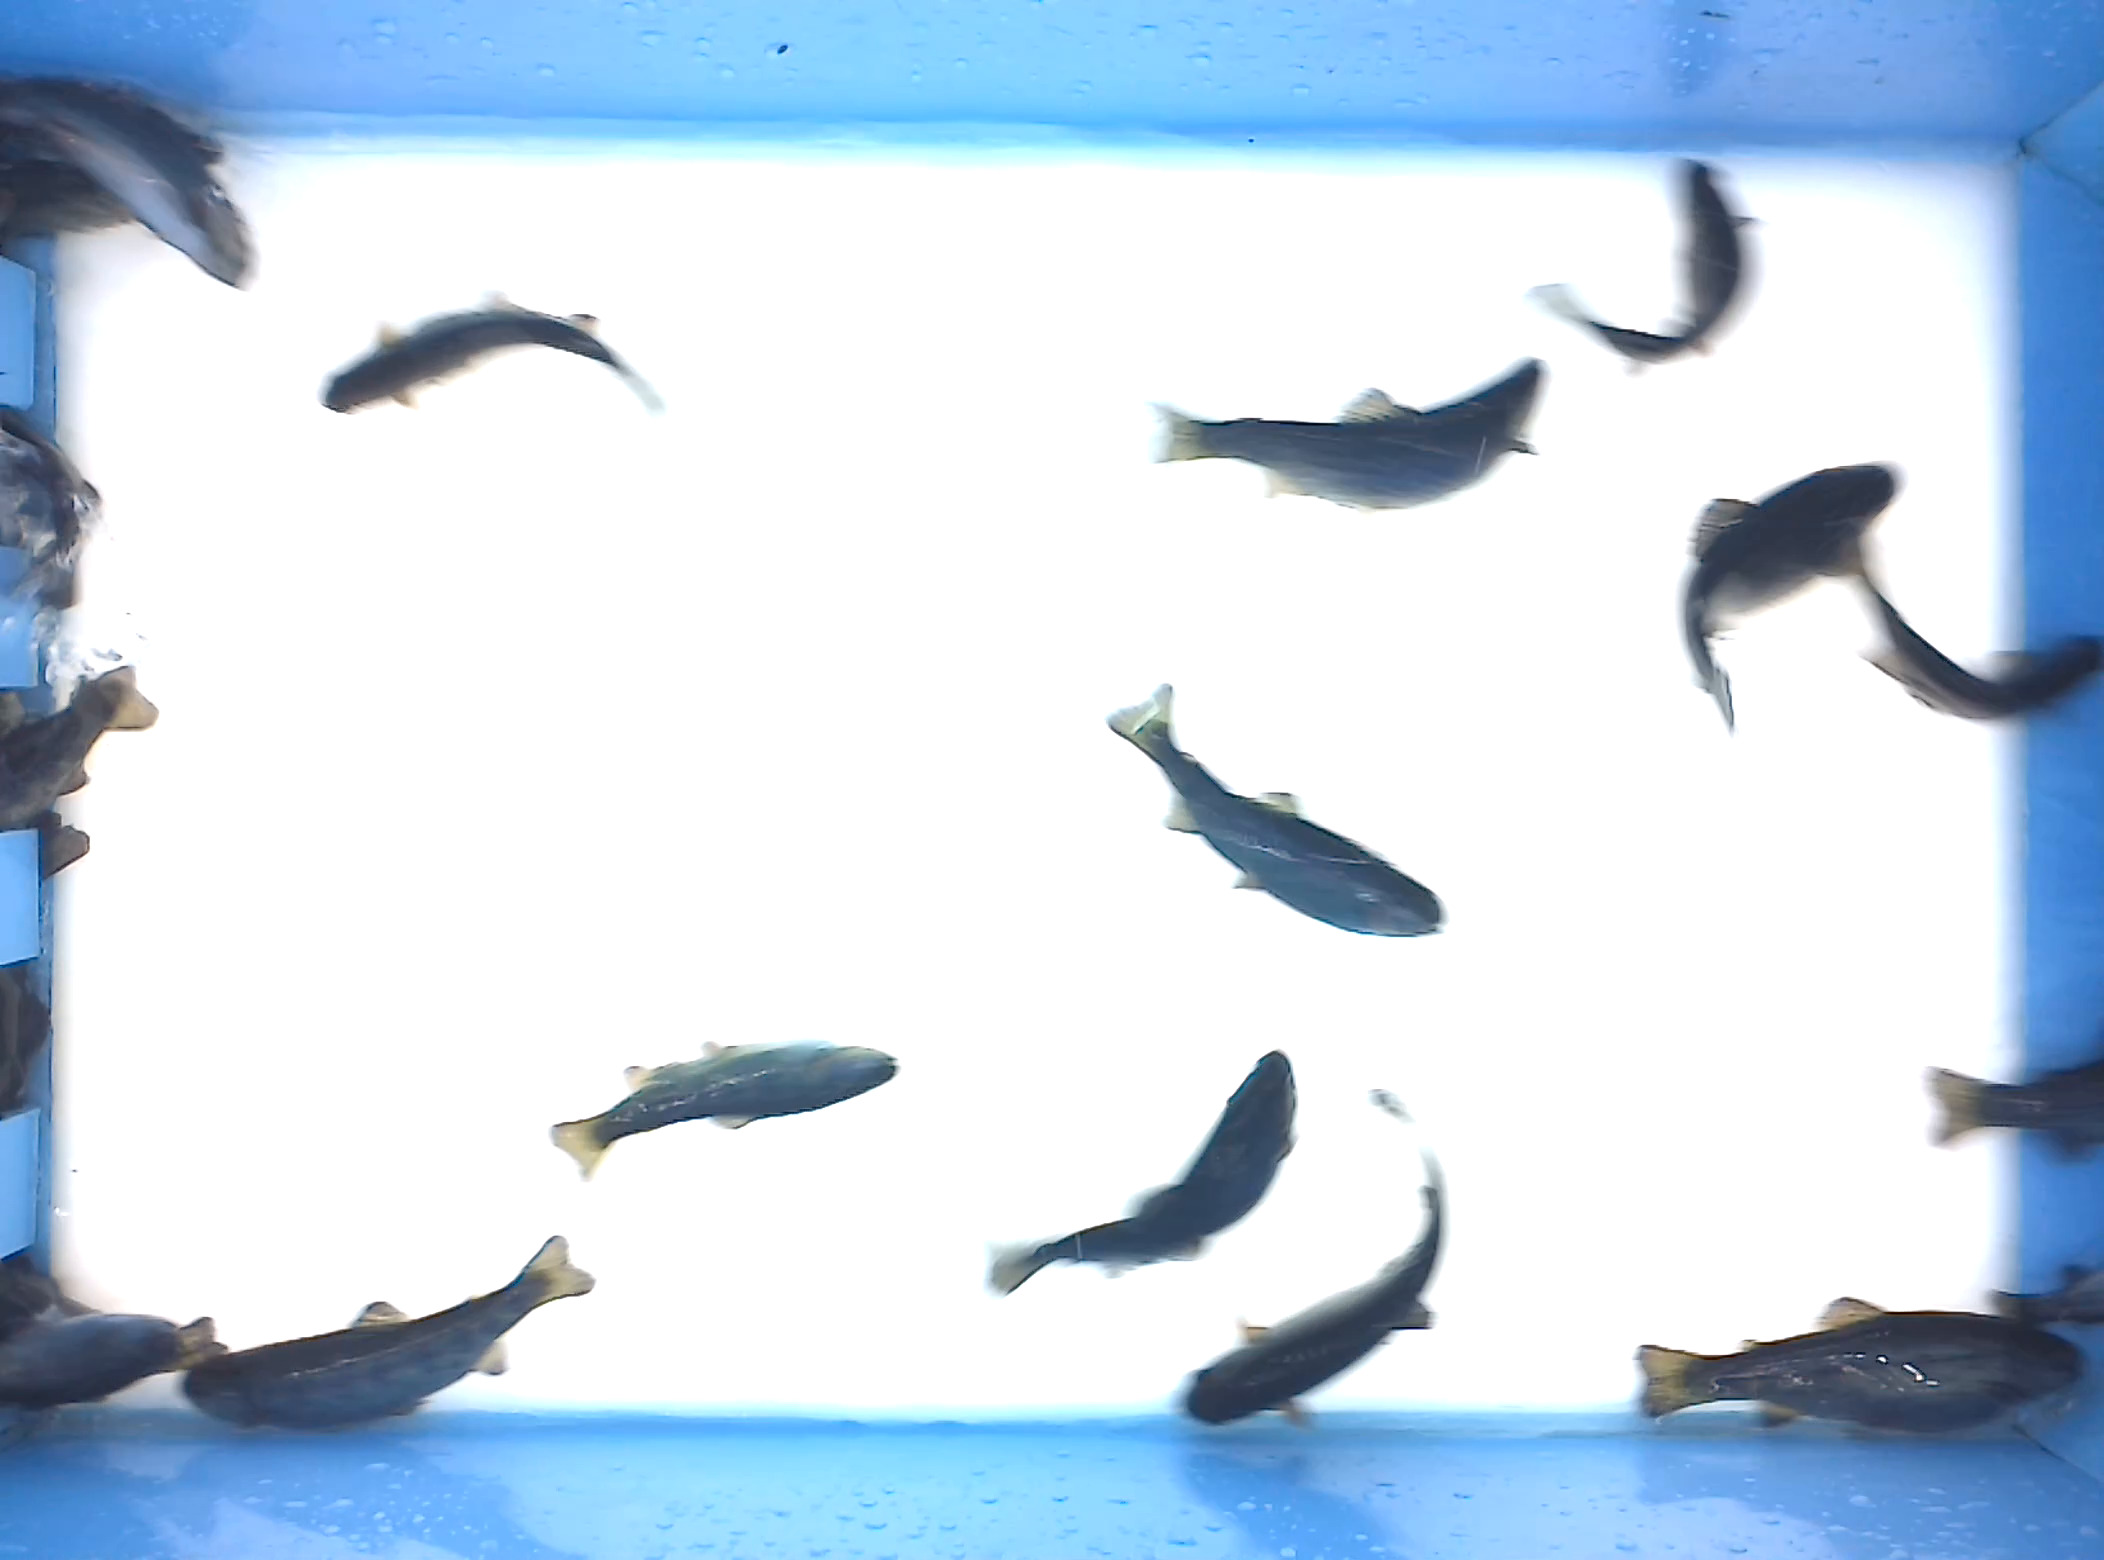fish: (1172, 1077, 1453, 1432), (1103, 682, 1449, 941), (174, 1231, 601, 1437), (983, 1045, 1301, 1304), (1634, 1296, 2096, 1445), (1145, 352, 1552, 518), (1671, 456, 1907, 737), (1811, 521, 2102, 728), (1526, 146, 1770, 382), (547, 1039, 901, 1181), (311, 287, 673, 418)
